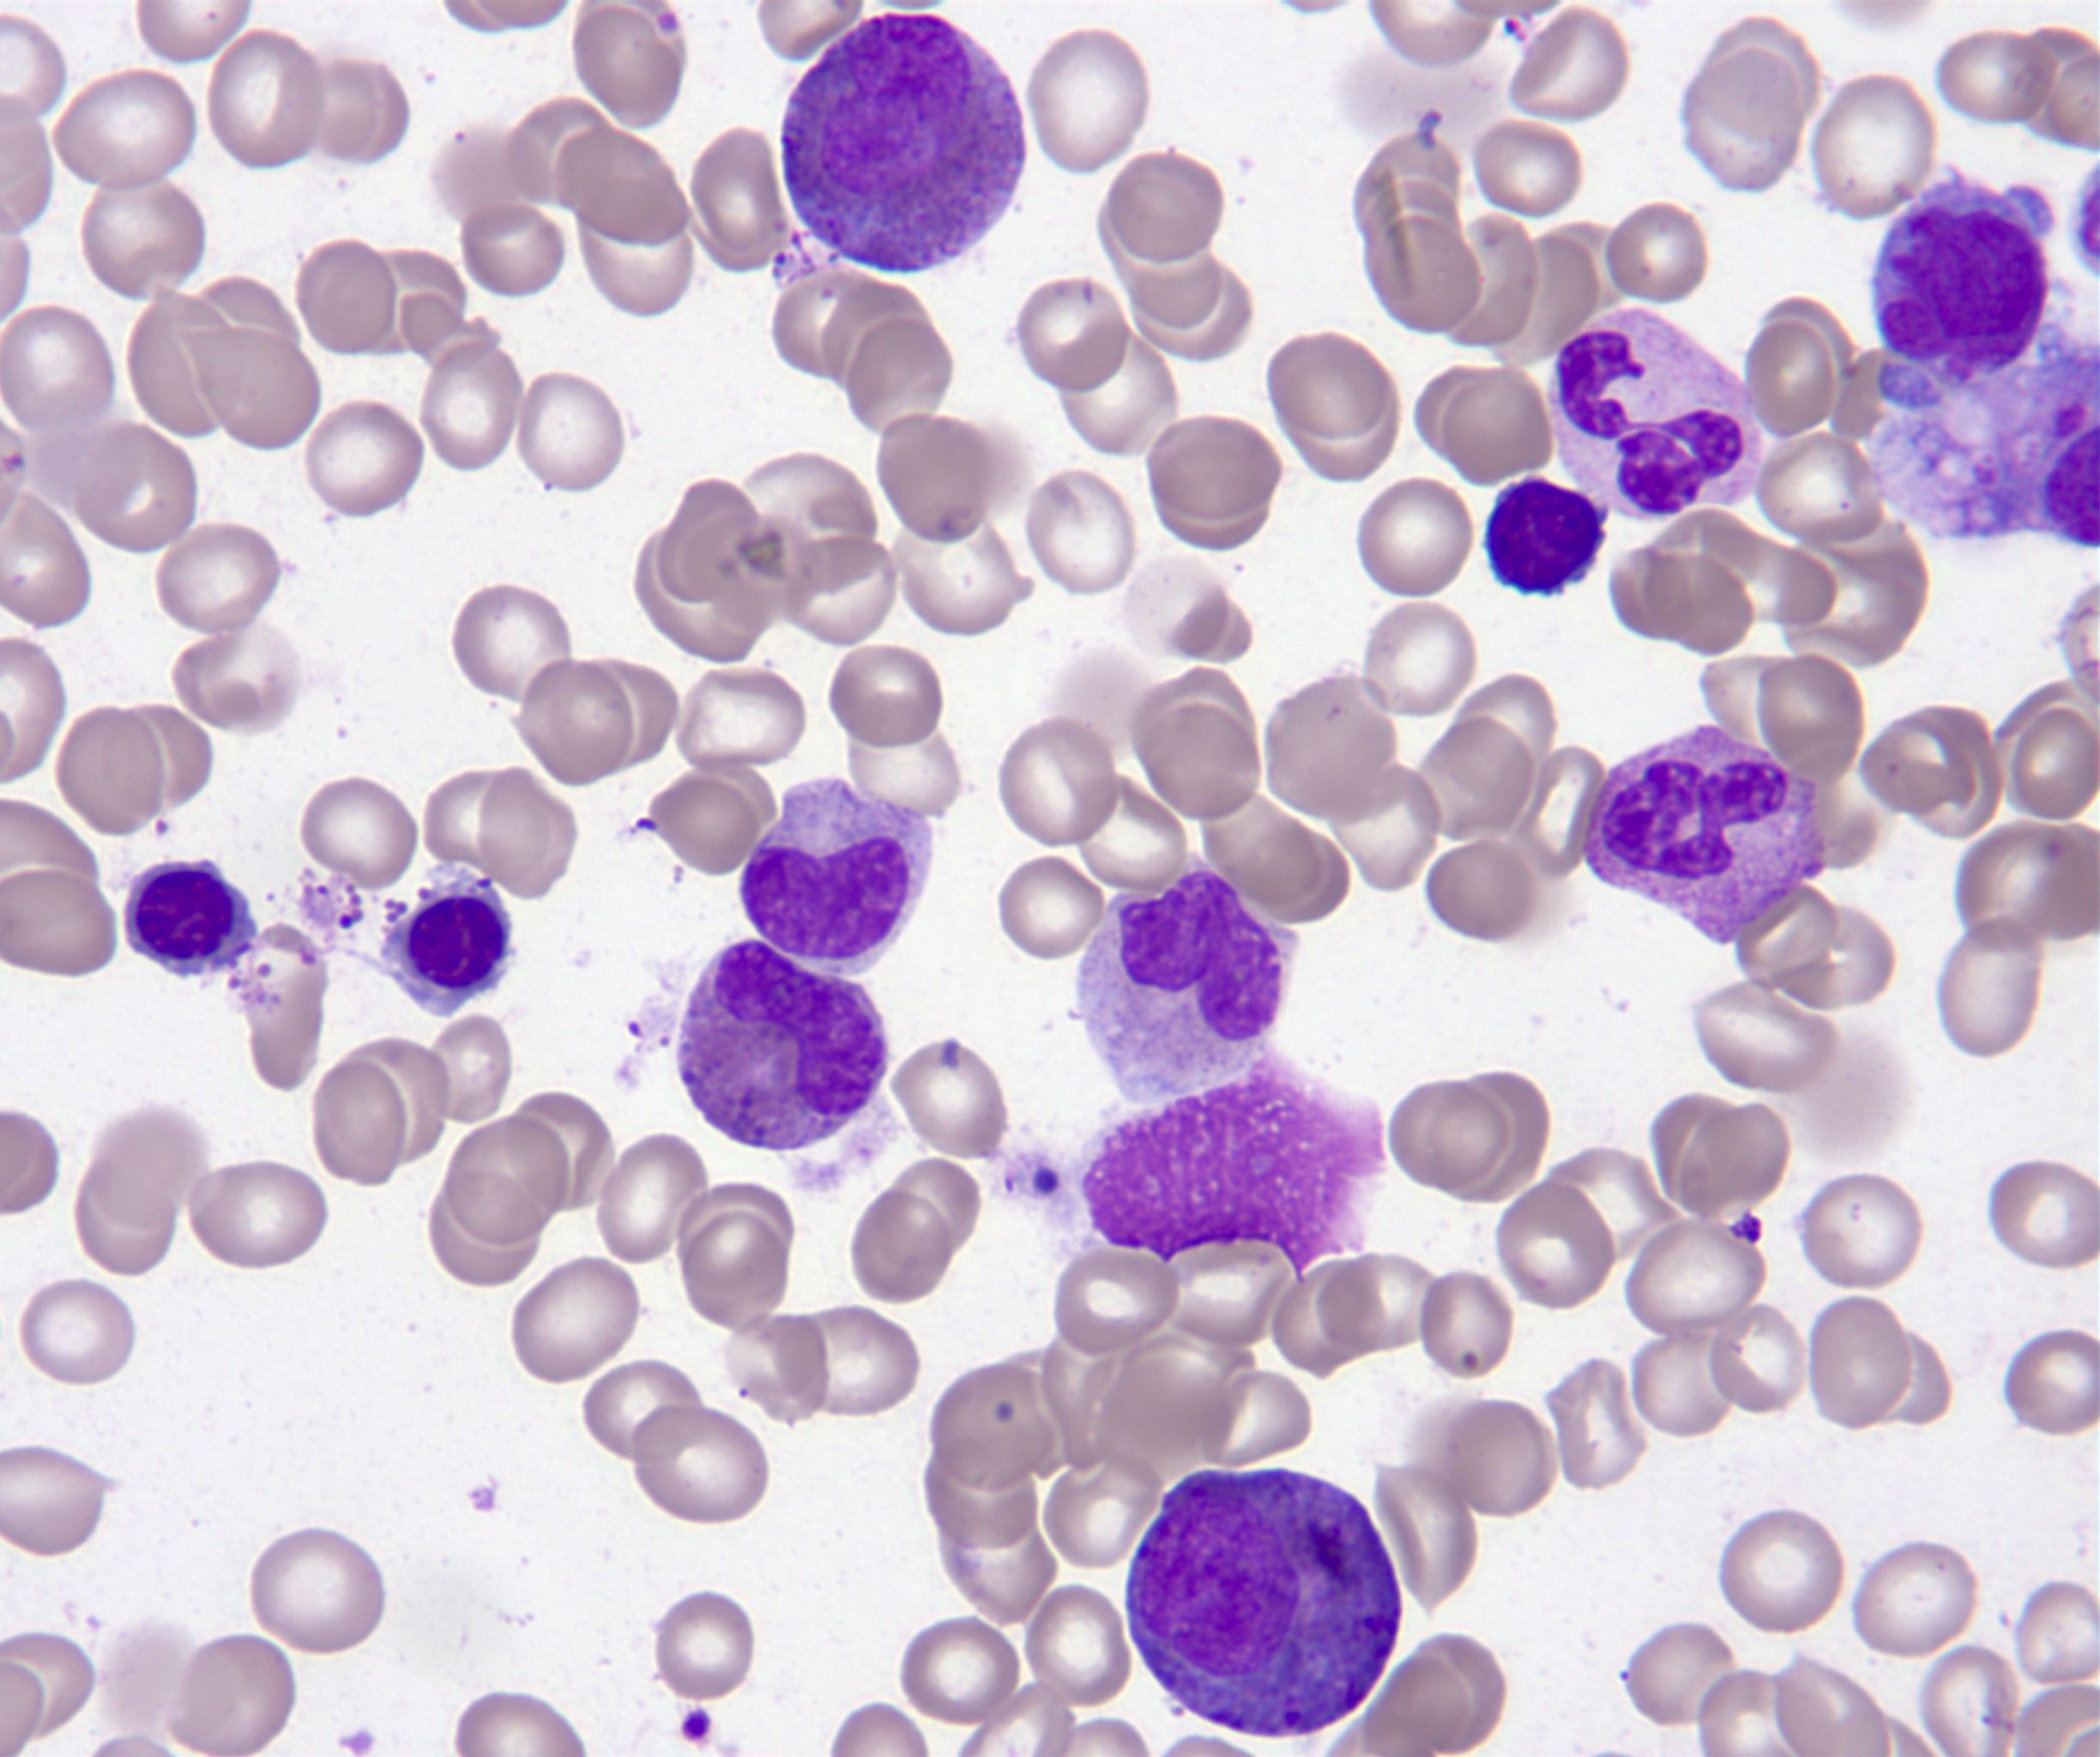24: (378, 865, 513, 1019), (126, 860, 255, 979)
32: (1486, 482, 1603, 595)
4: (740, 778, 931, 975)
42: (1078, 869, 1296, 1108), (1873, 180, 2048, 379)
5: (1584, 724, 1824, 946)
6: (1547, 309, 1760, 523)
E1: (1123, 1469, 1402, 1738), (781, 12, 1026, 272)
E2: (678, 942, 888, 1152)
x: (1081, 1043, 1385, 1284), (1851, 330, 2098, 550)
